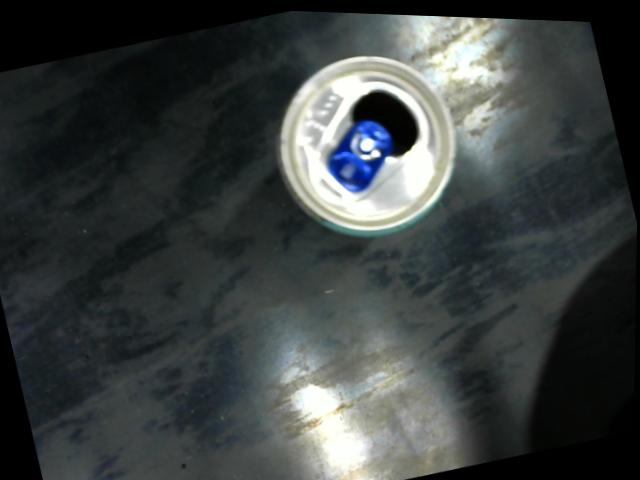can: (254, 29, 480, 259)
